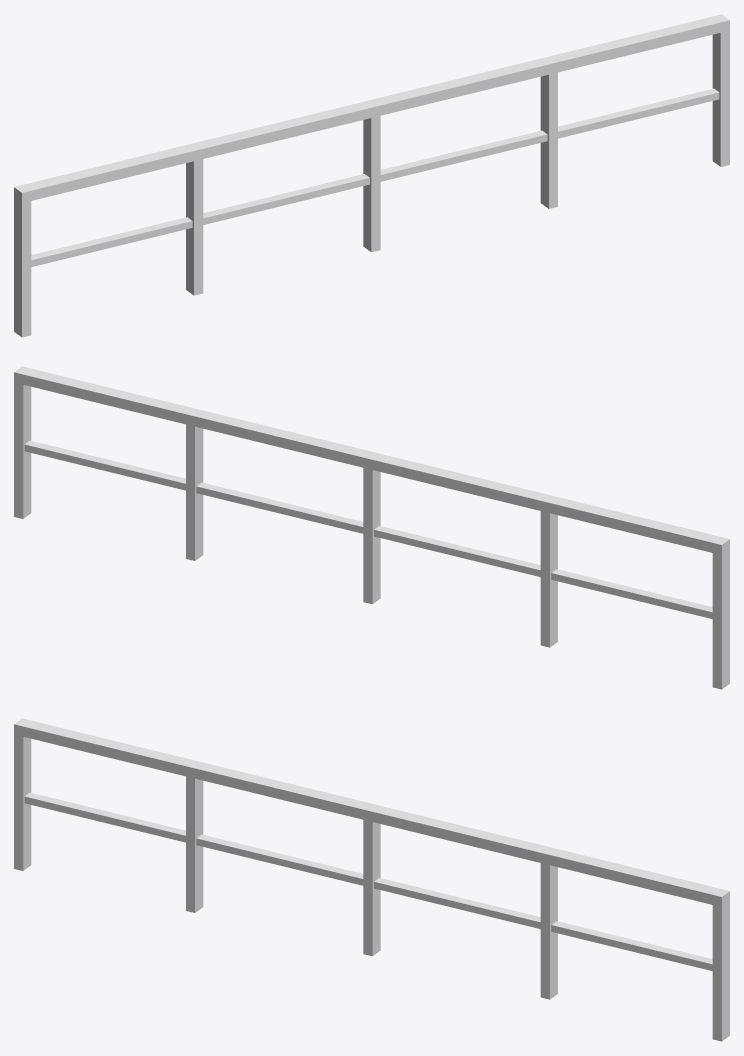
File: Partitions_055.glb
3 renders of one model, top to bottom at view 1: azimuth 30°, elevation 25°; view 2: azimuth 150°, elevation 25°; view 3: azimuth 330°, elevation 25°, orthographic.
Visible parts, largest first — view 1: Partitions_055; view 2: Partitions_055; view 3: Partitions_055.
Boxes of the visible parts, left/top/right/bottom form: Partitions_055: left=14, top=14, right=729, bottom=337; Partitions_055: left=14, top=366, right=729, bottom=689; Partitions_055: left=14, top=718, right=729, bottom=1041.
Bounding box in the file's own units: 4 × 0.7809 × 0.0793.
1 material, 1 textured.
